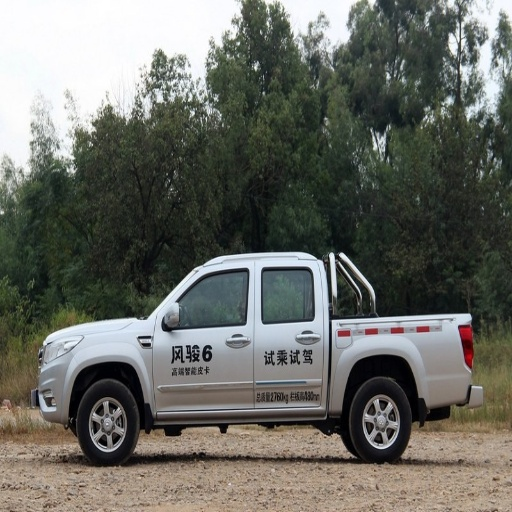back_left_door: (255, 261, 324, 404)
front_left_door: (153, 266, 254, 409)
trunk: (325, 320, 470, 414)
